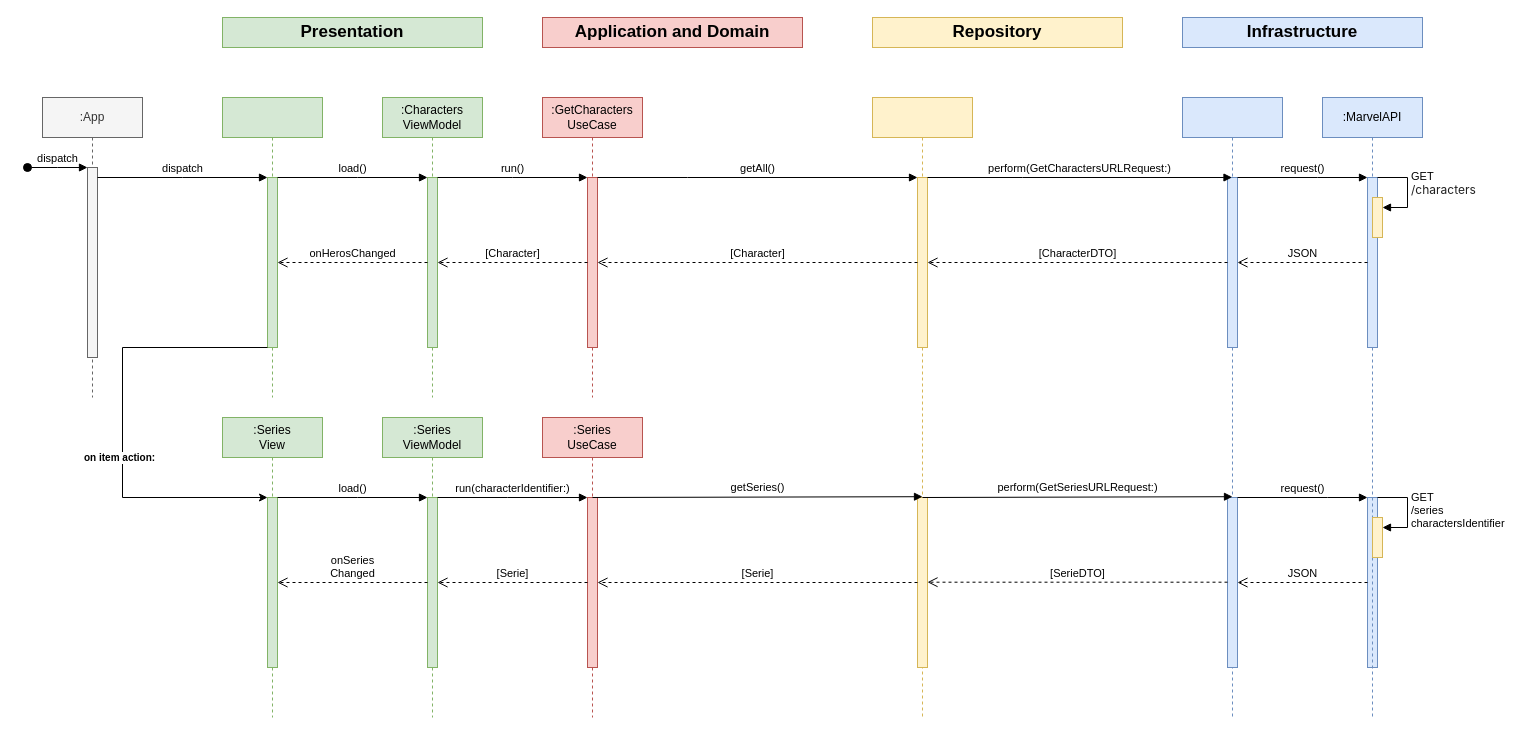
This 1523x735 diagram has some shape labels left out. The shapes that lost their labels are listed below. From the top down, each one's box as (x1, y1, x2, y2) in pixels, then its label:
(222, 96, 322, 398): :Characters View
(872, 96, 972, 718): :Characters Repository
(1182, 96, 1282, 718): :API Session
